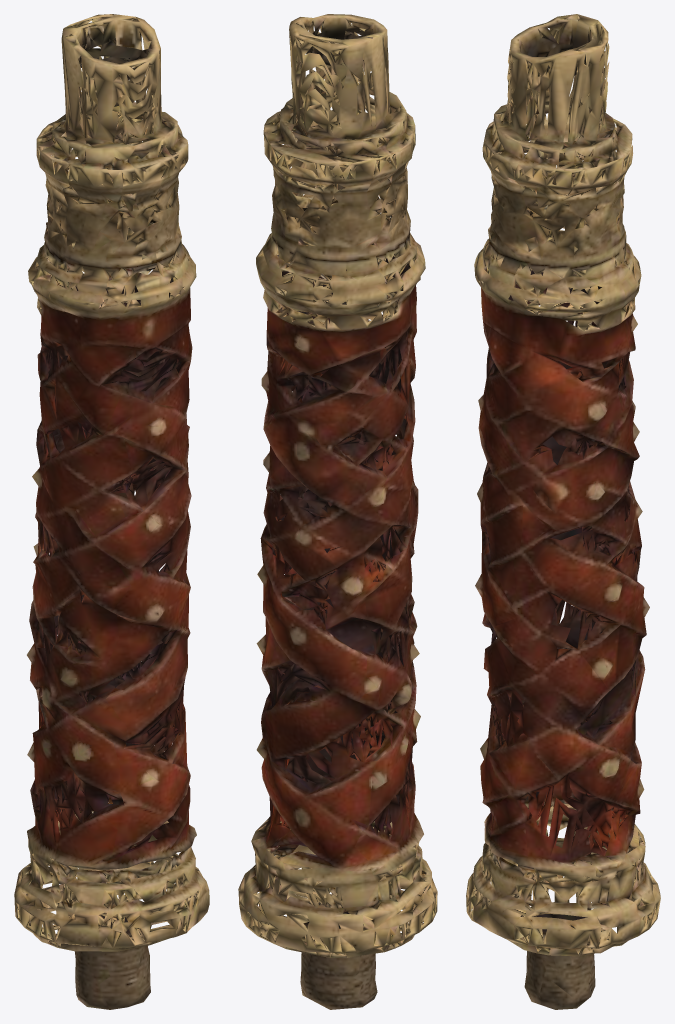
The picture shows the model from 3 angles, left to right: view 1: azimuth 30°, elevation 25°; view 2: azimuth 150°, elevation 25°; view 3: azimuth 270°, elevation 25°; orthographic projection.
Visible parts, largest first — view 1: steampunk_handle_leatherroyal; view 2: steampunk_handle_leatherroyal; view 3: steampunk_handle_leatherroyal.
Part boxes in pixels (<box>): steampunk_handle_leatherroyal: <box>14,14,209,1009</box>; steampunk_handle_leatherroyal: <box>238,14,437,1009</box>; steampunk_handle_leatherroyal: <box>466,14,660,1009</box>.
Bounding box in the file's own units: 0.0332 × 0.1834 × 0.0336.
1 material, 1 textured.
